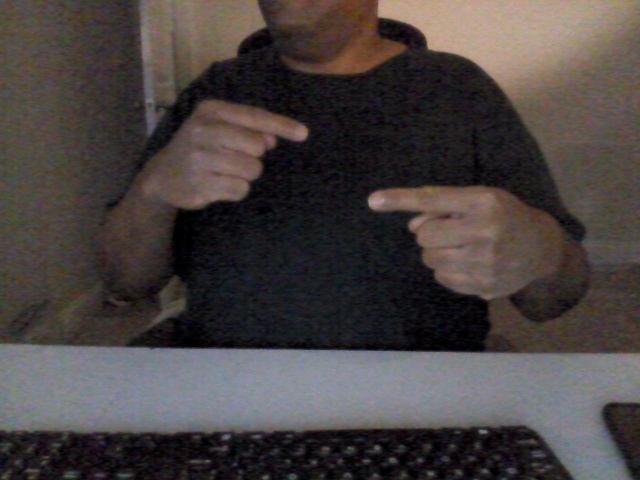go: (135, 97, 564, 311)
